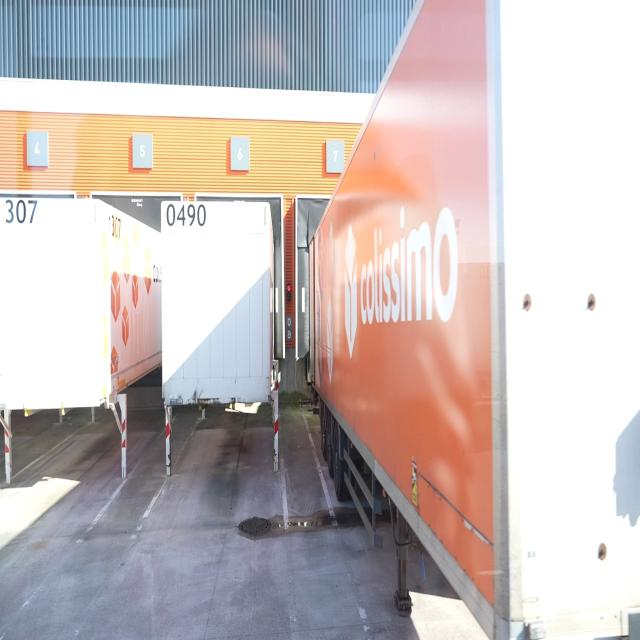Code: (163, 202, 207, 230), (104, 209, 124, 240)
